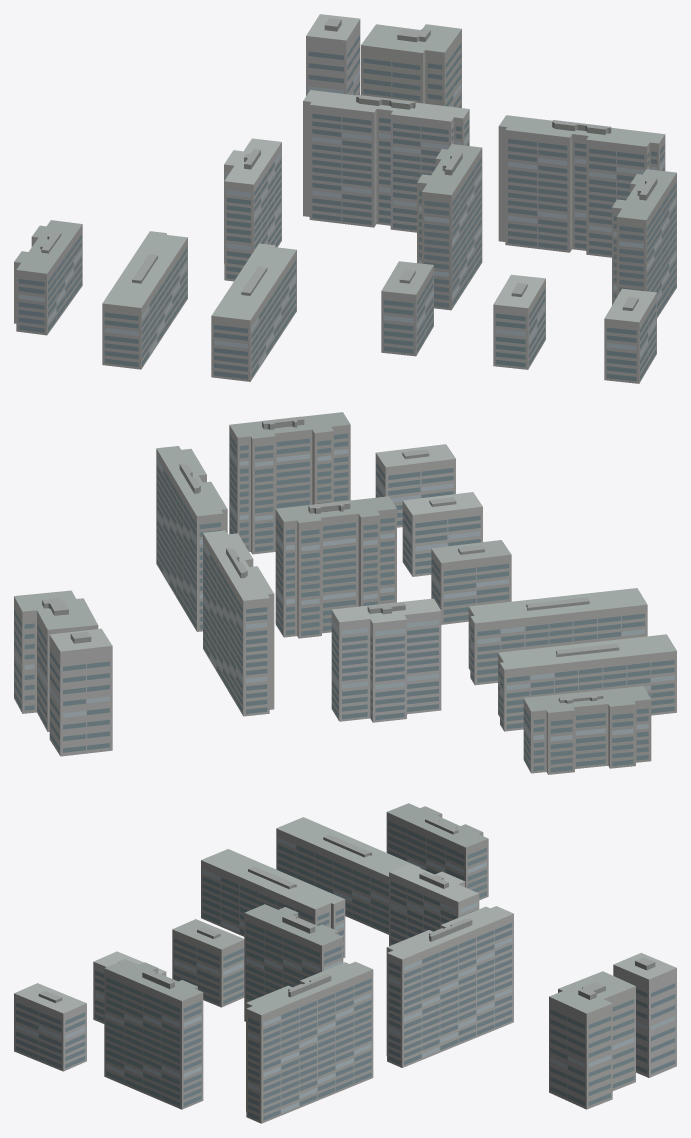
File: apt-a15213004.glb
3 views of the same model, one above another, from view 1: azimuth 30°, elevation 25°; view 2: azimuth 150°, elevation 25°; view 3: azimuth 270°, elevation 25° (orthographic). The views are drawn at different scales.
Visible parts, largest first — view 1: apt-a15213004; view 2: apt-a15213004; view 3: apt-a15213004.
Part boxes in pixels (x1=…): apt-a15213004: x1=14, y1=14, x2=676, y2=383; apt-a15213004: x1=14, y1=412, x2=676, y2=774; apt-a15213004: x1=14, y1=803, x2=676, y2=1123.
Bounding box in the file's own units: 213 × 43 × 227.
